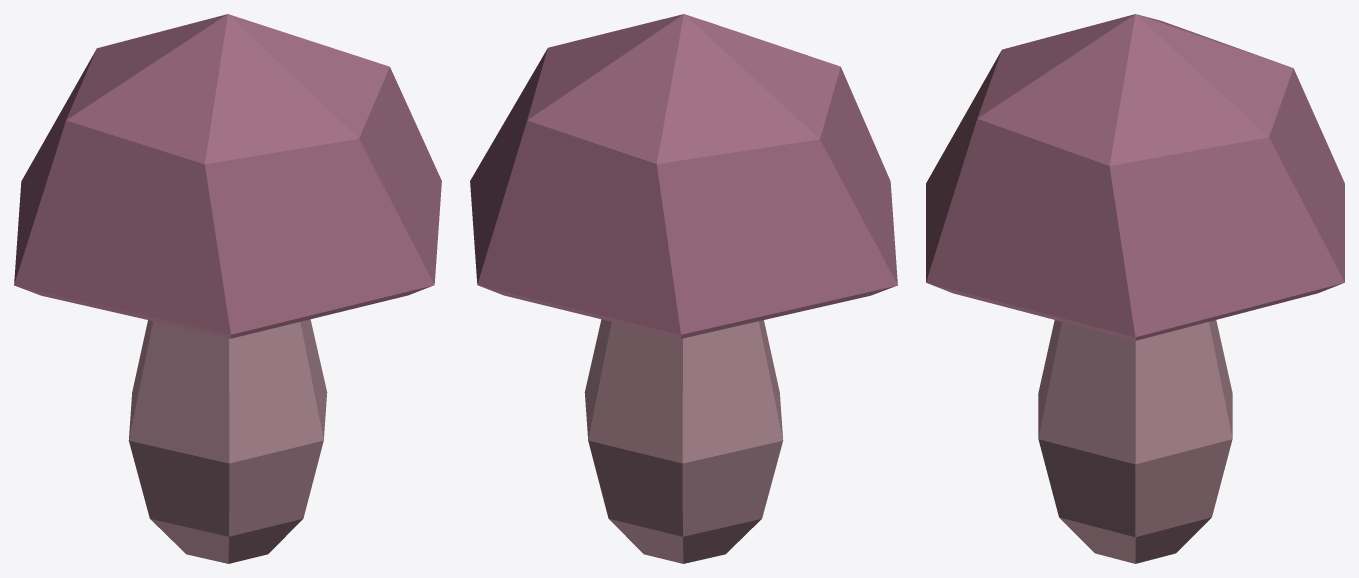
The model's file is Mushroom-B04.fbx.
3 views of the same model, side by side, from view 1: azimuth 30°, elevation 25°; view 2: azimuth 150°, elevation 25°; view 3: azimuth 270°, elevation 25° (orthographic).
Parts seen in each view (by area): view 1: Mushroom-B04; view 2: Mushroom-B04; view 3: Mushroom-B04.
Boxes of the visible parts, x1,y1,x2,y2 form: Mushroom-B04: [14, 14, 441, 563]; Mushroom-B04: [470, 14, 897, 563]; Mushroom-B04: [926, 14, 1344, 563].
Size of the model in its own units: 71.62 by 84.8 by 60.77.
